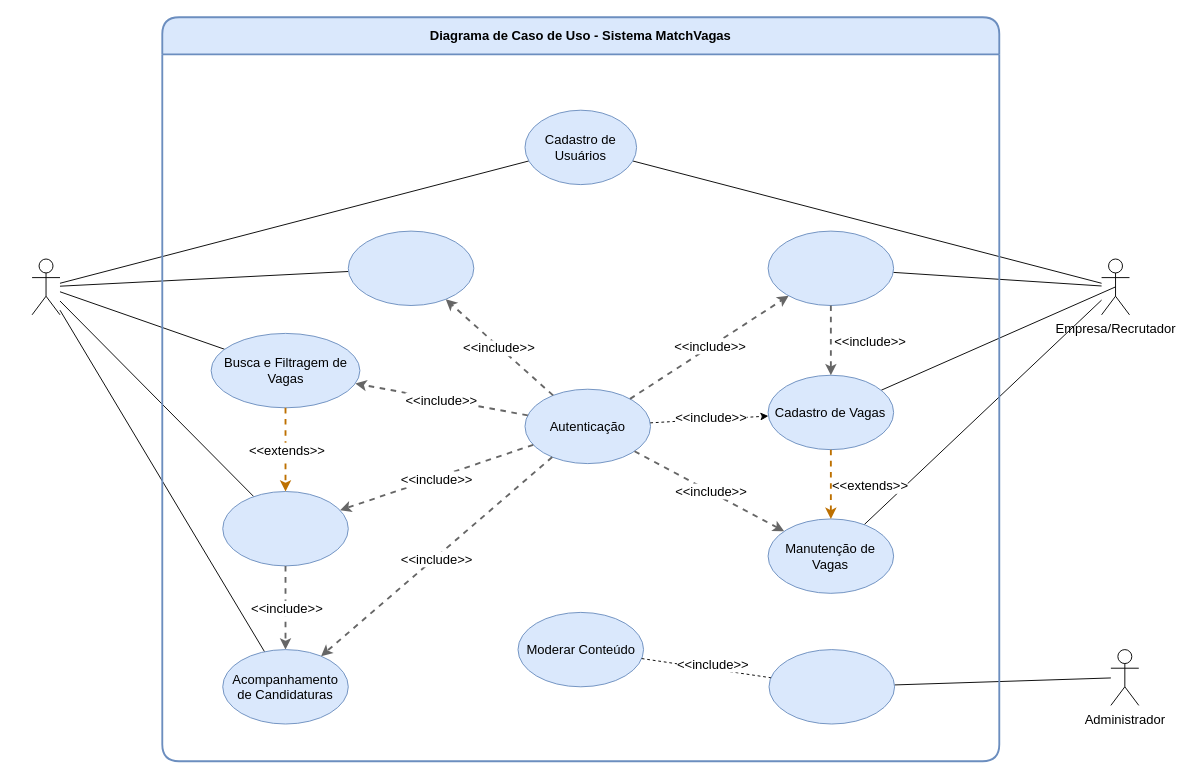
Image size: 1191x777. Some labels were removed from this diagram. The box of each missing label's shape, as (x1, y1, x2, y2) in pixels:
Administração do Sistema: (768, 649, 895, 724)
Candidato: (31, 258, 60, 315)
Candidatura à Vaga: (222, 491, 348, 566)
Gerenciamento do Perfil da Empresa: (767, 230, 894, 306)
Gerenciamento do Perfil do Usuário: (347, 230, 474, 306)
